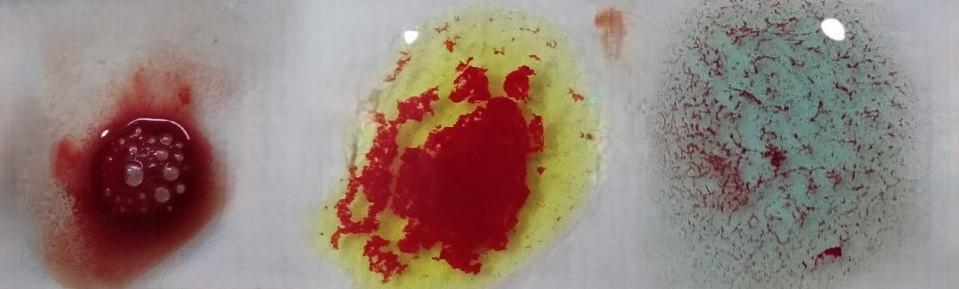A: (668, 7, 902, 289)
B: (330, 23, 592, 284)
D: (18, 30, 225, 286)
